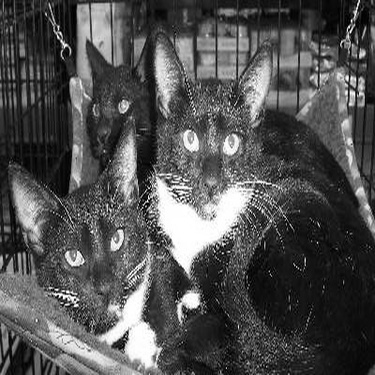cat: (148, 23, 370, 371), (6, 112, 180, 368), (85, 38, 157, 187)
